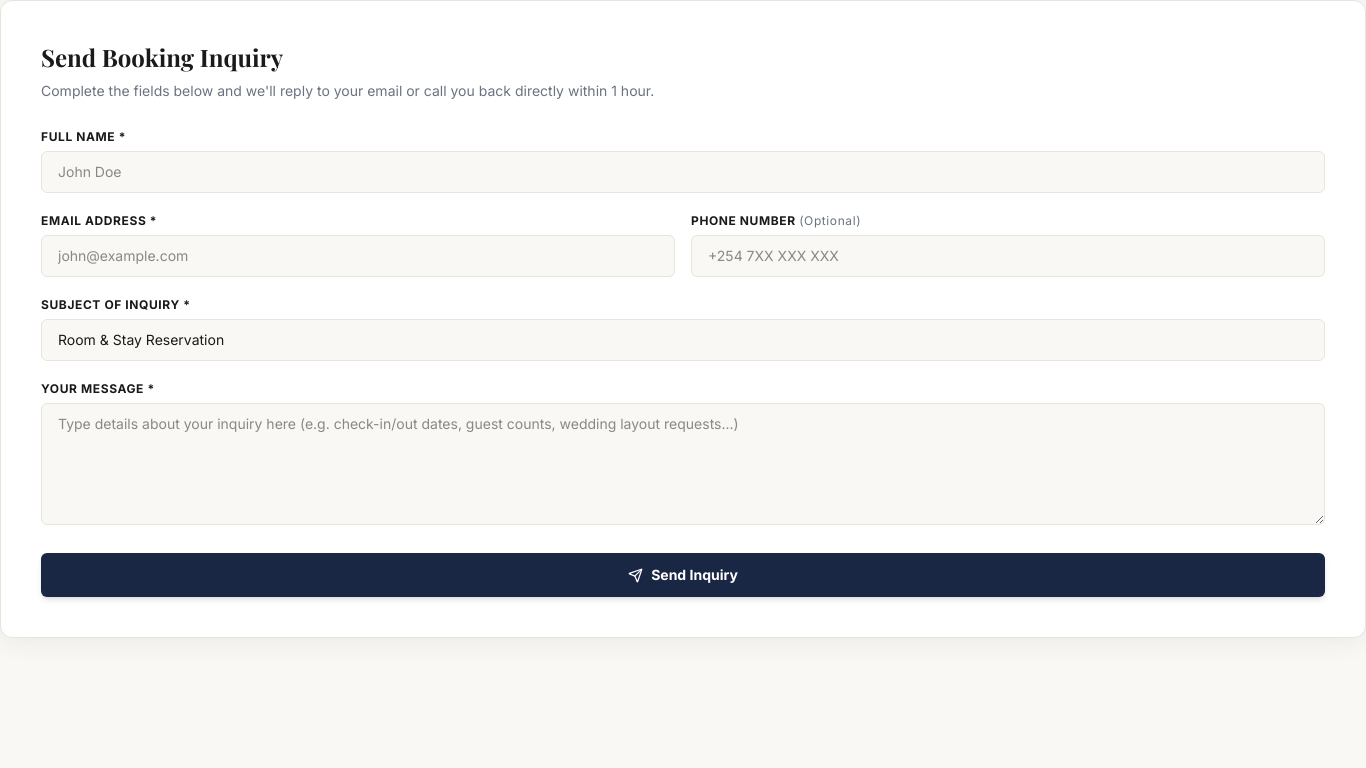
ContactForm › clears the name error when the user starts typing in the name field
Submit the form
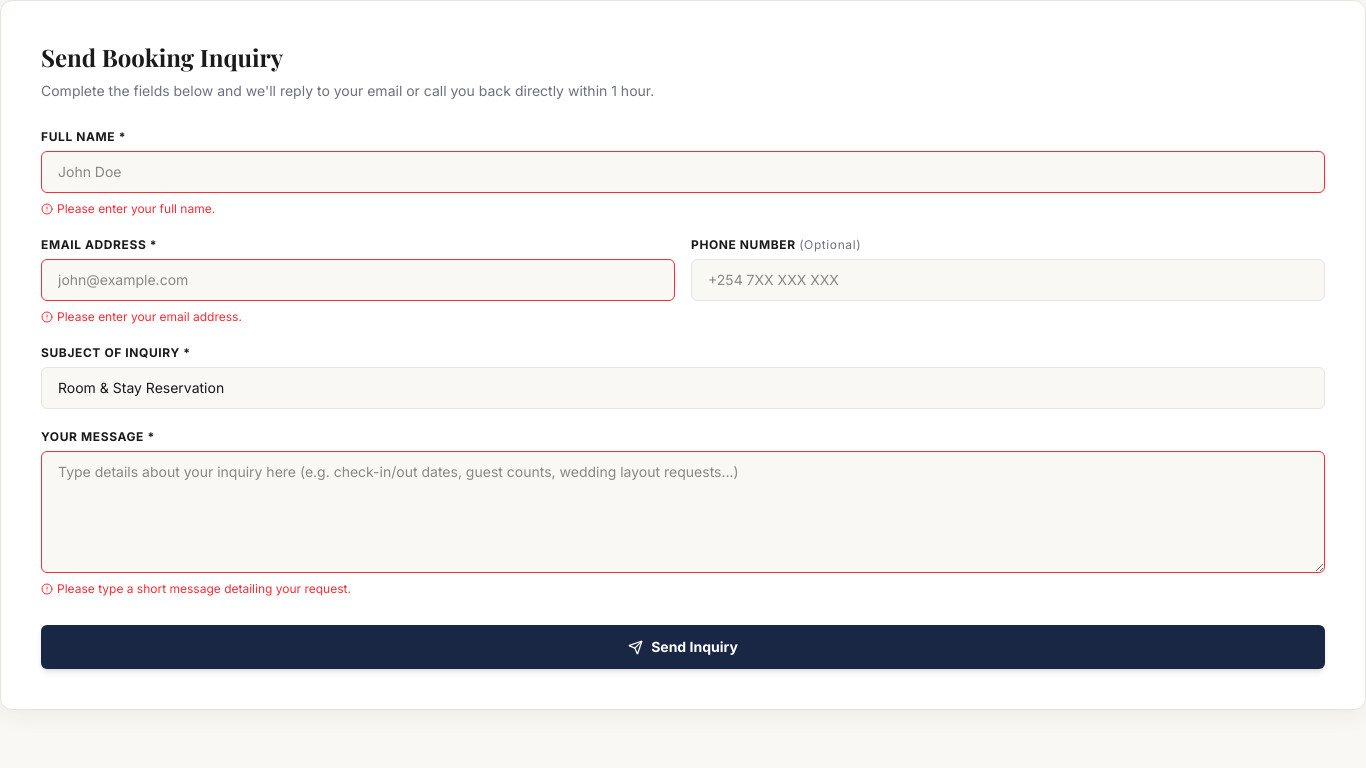
Check: the text "Please enter your full name." is shown, box top-left (41, 201), bottom-right (215, 216)
Type "J" into the field labelled "Full Name *" at [683, 172], box top-left (41, 151), bottom-right (1325, 193)
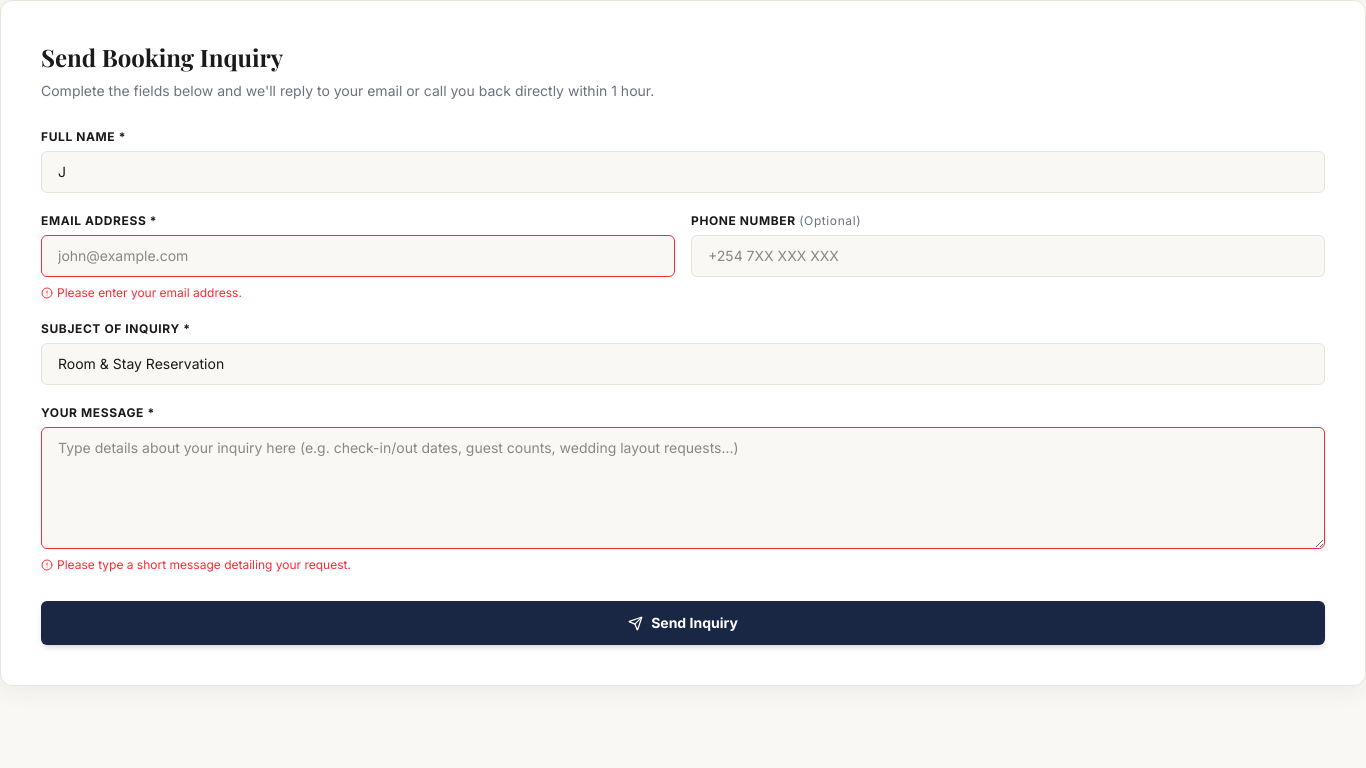
Check: the text "Please enter your full name" is gone
